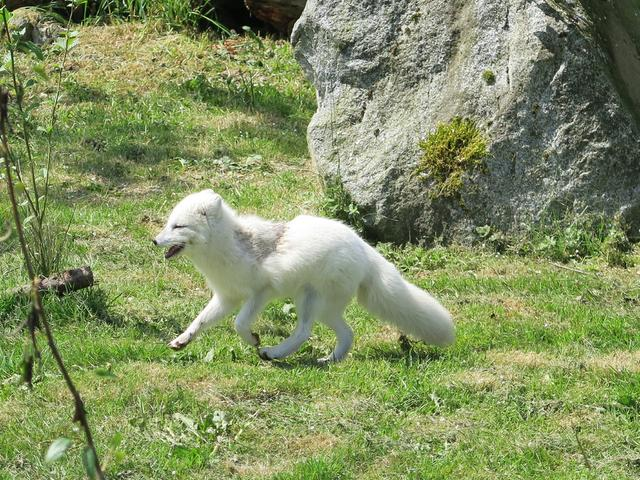dog: (146, 177, 482, 381)
